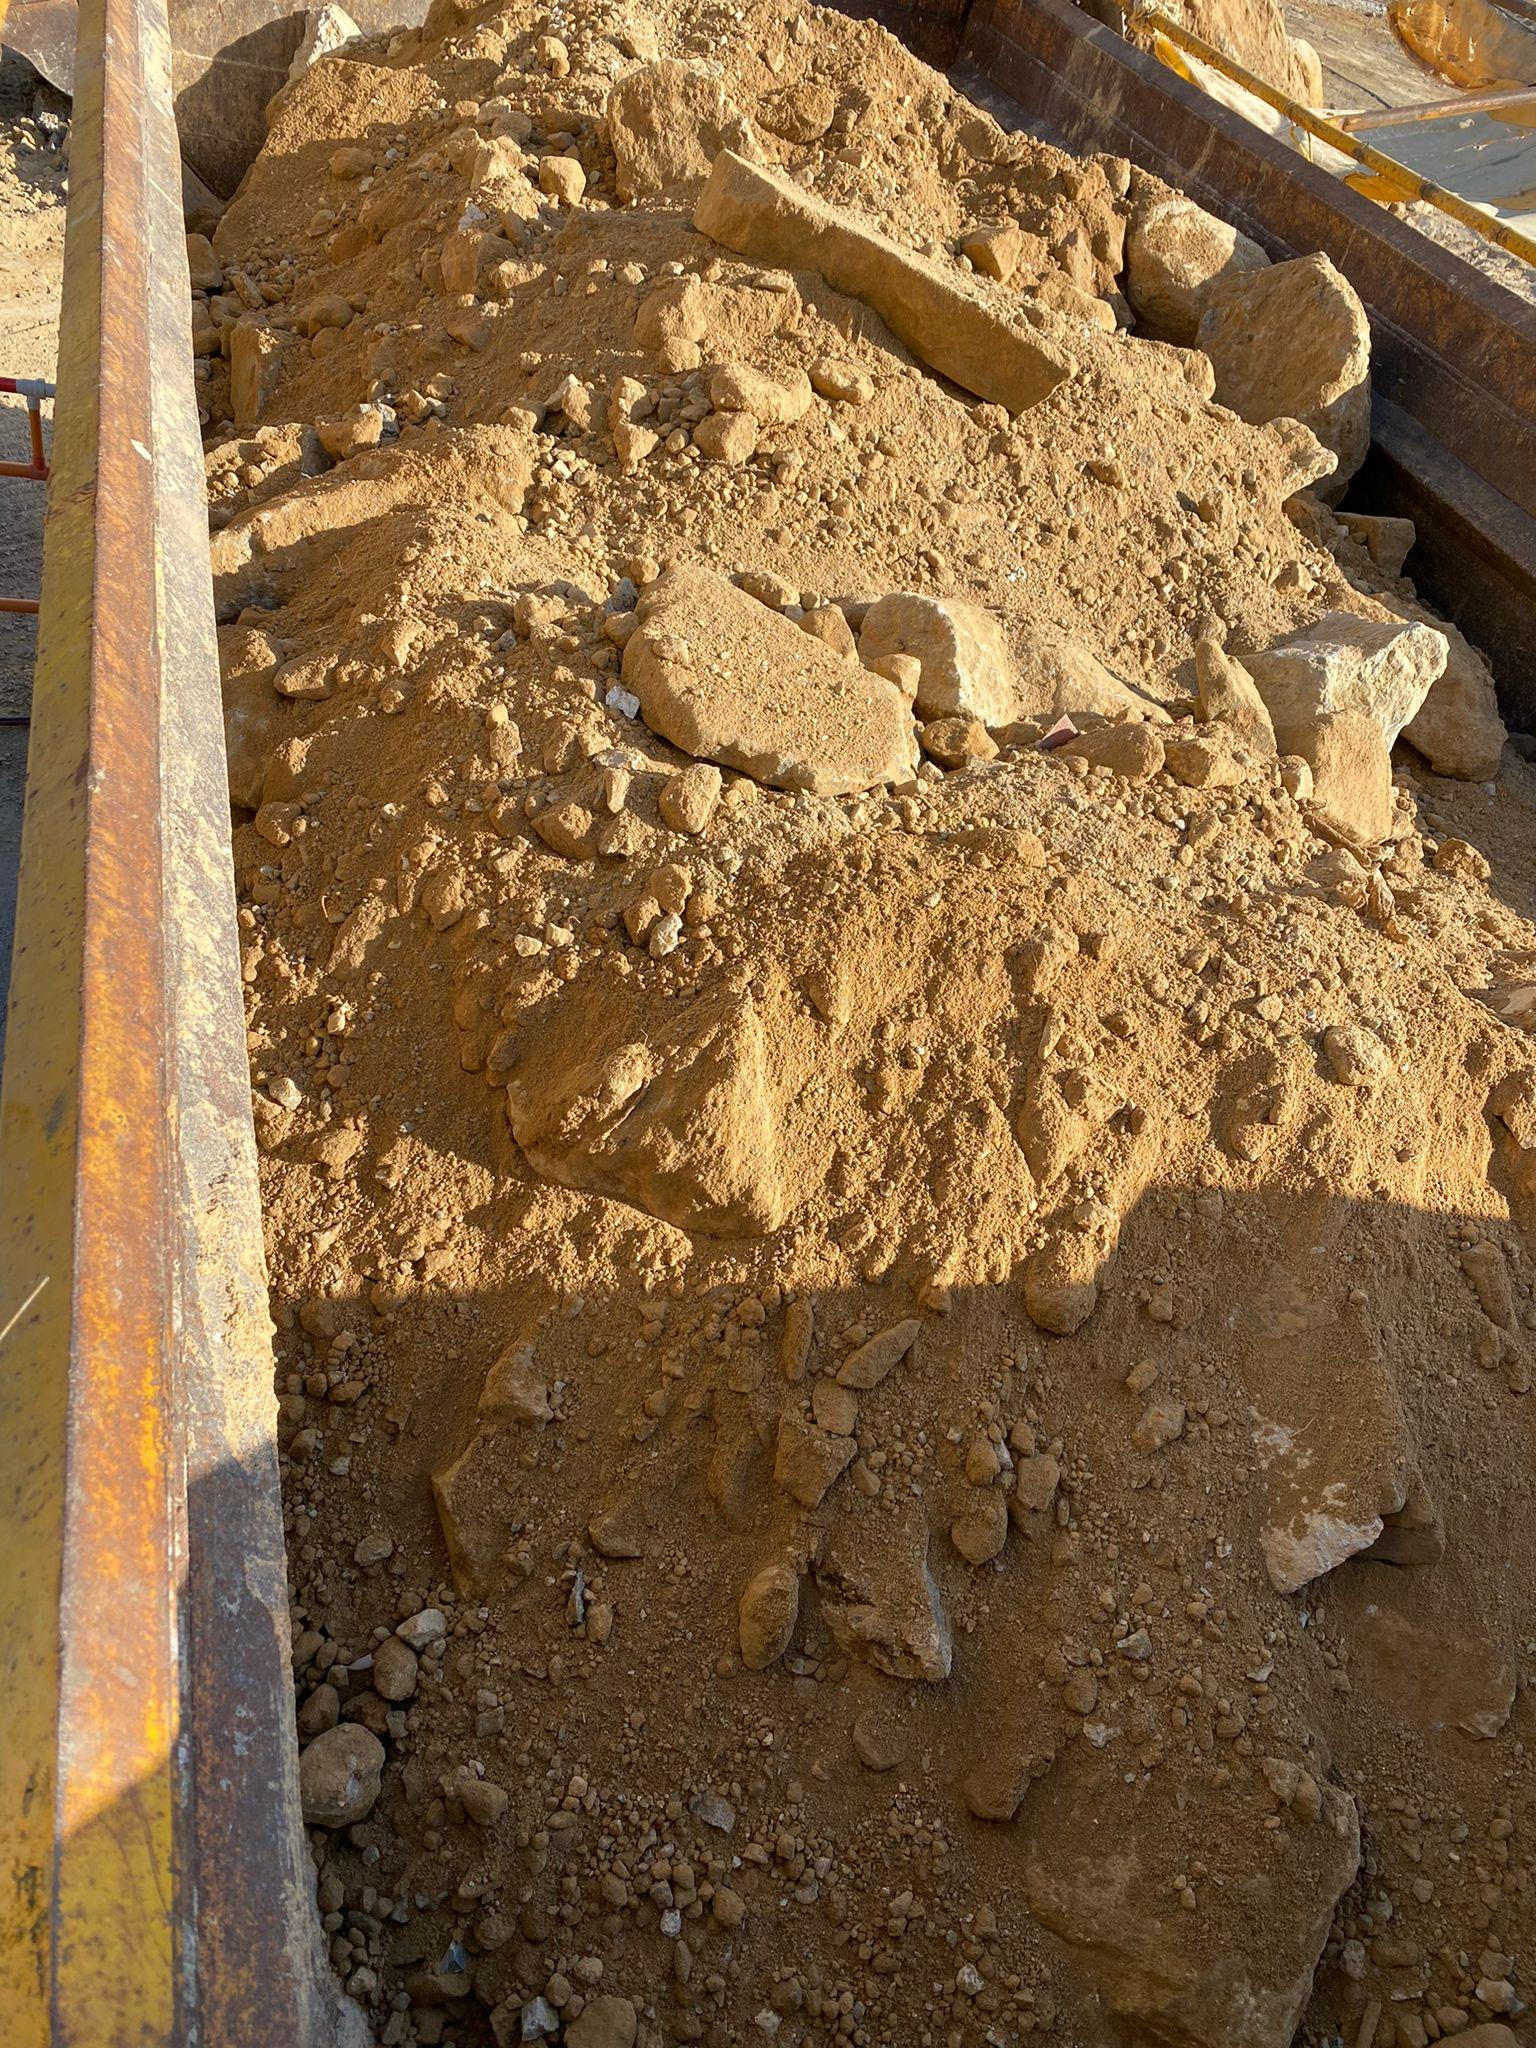stone: (194, 0, 1532, 2044), (689, 147, 1073, 416), (617, 561, 921, 797), (1235, 607, 1450, 848), (1192, 249, 1373, 505)
